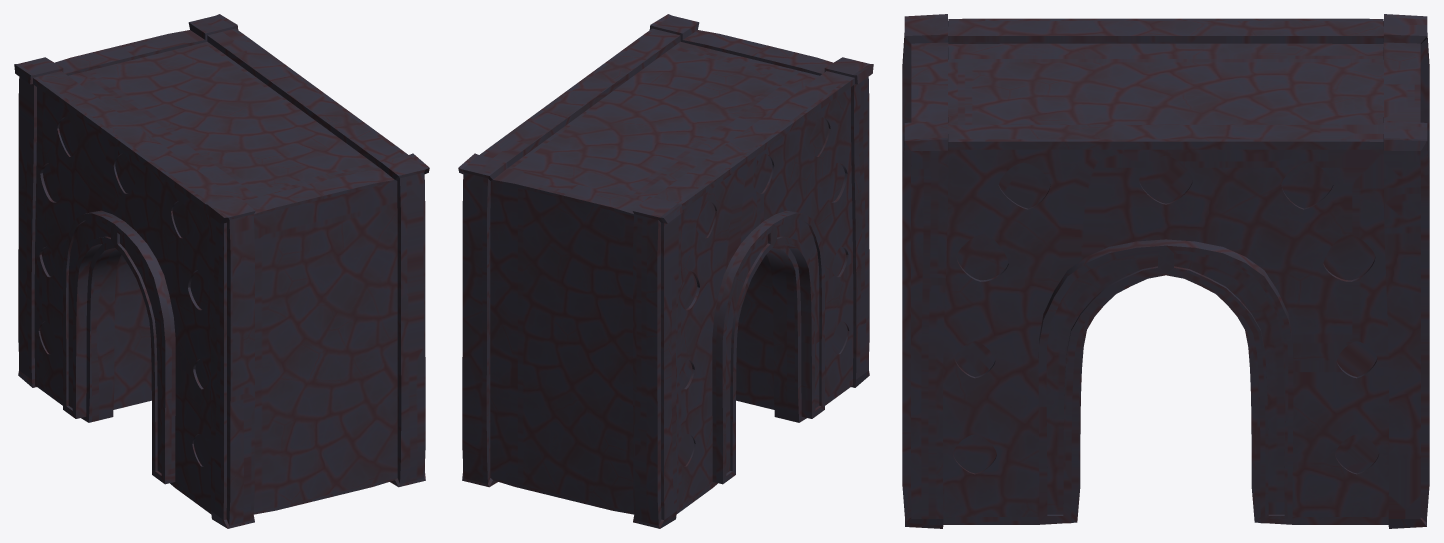
Rendered from opening.glb.
3 renders of one model, left to right at view 1: azimuth 30°, elevation 25°; view 2: azimuth 150°, elevation 25°; view 3: azimuth 270°, elevation 25°, orthographic. The views are drawn at different scales.
Visible parts, largest first — view 1: GateWay01HIght; view 2: GateWay01HIght; view 3: GateWay01HIght.
Boxes of the visible parts, x1,y1,x2,y2 form: GateWay01HIght: (14, 14, 429, 528); GateWay01HIght: (458, 14, 873, 528); GateWay01HIght: (902, 14, 1429, 528).
Bounding box in the file's own units: 3.04 × 4.24 × 5.17.
Materials: 1 (1 with a texture image).
